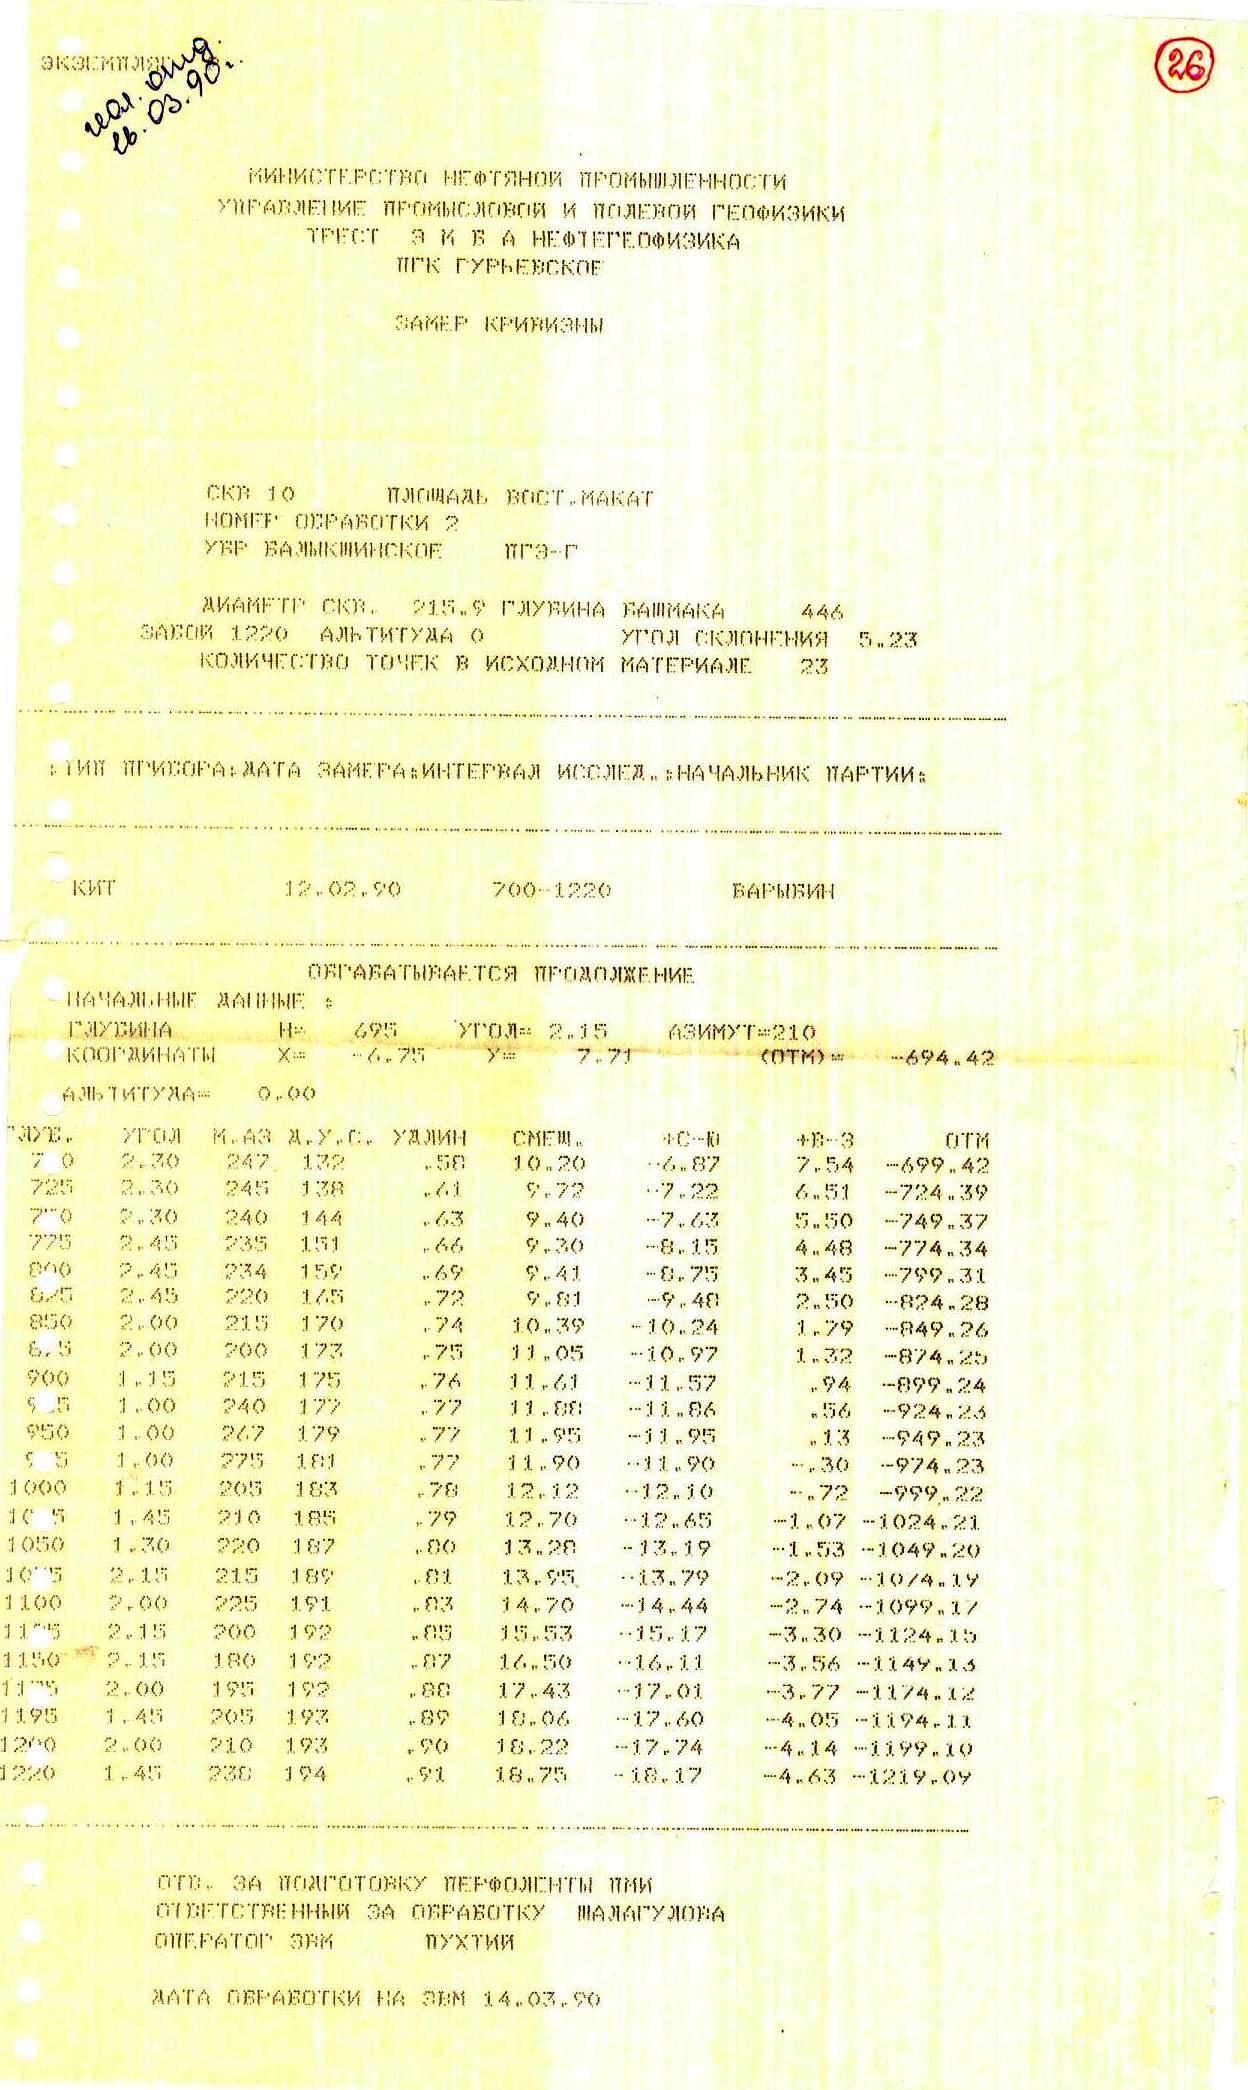Borderless: (4, 945, 1021, 1832)
